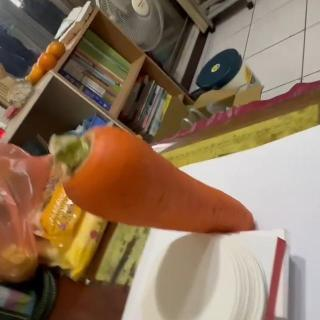carrot: (52, 125, 256, 233)
